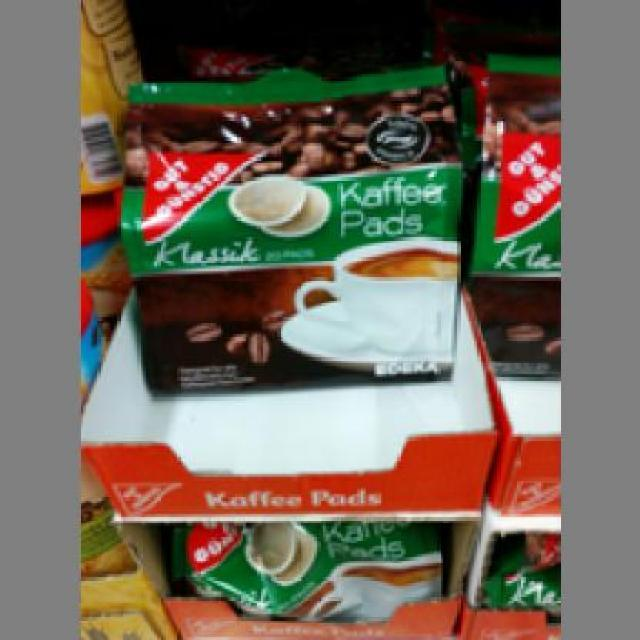Coffee: (108, 62, 464, 398)
